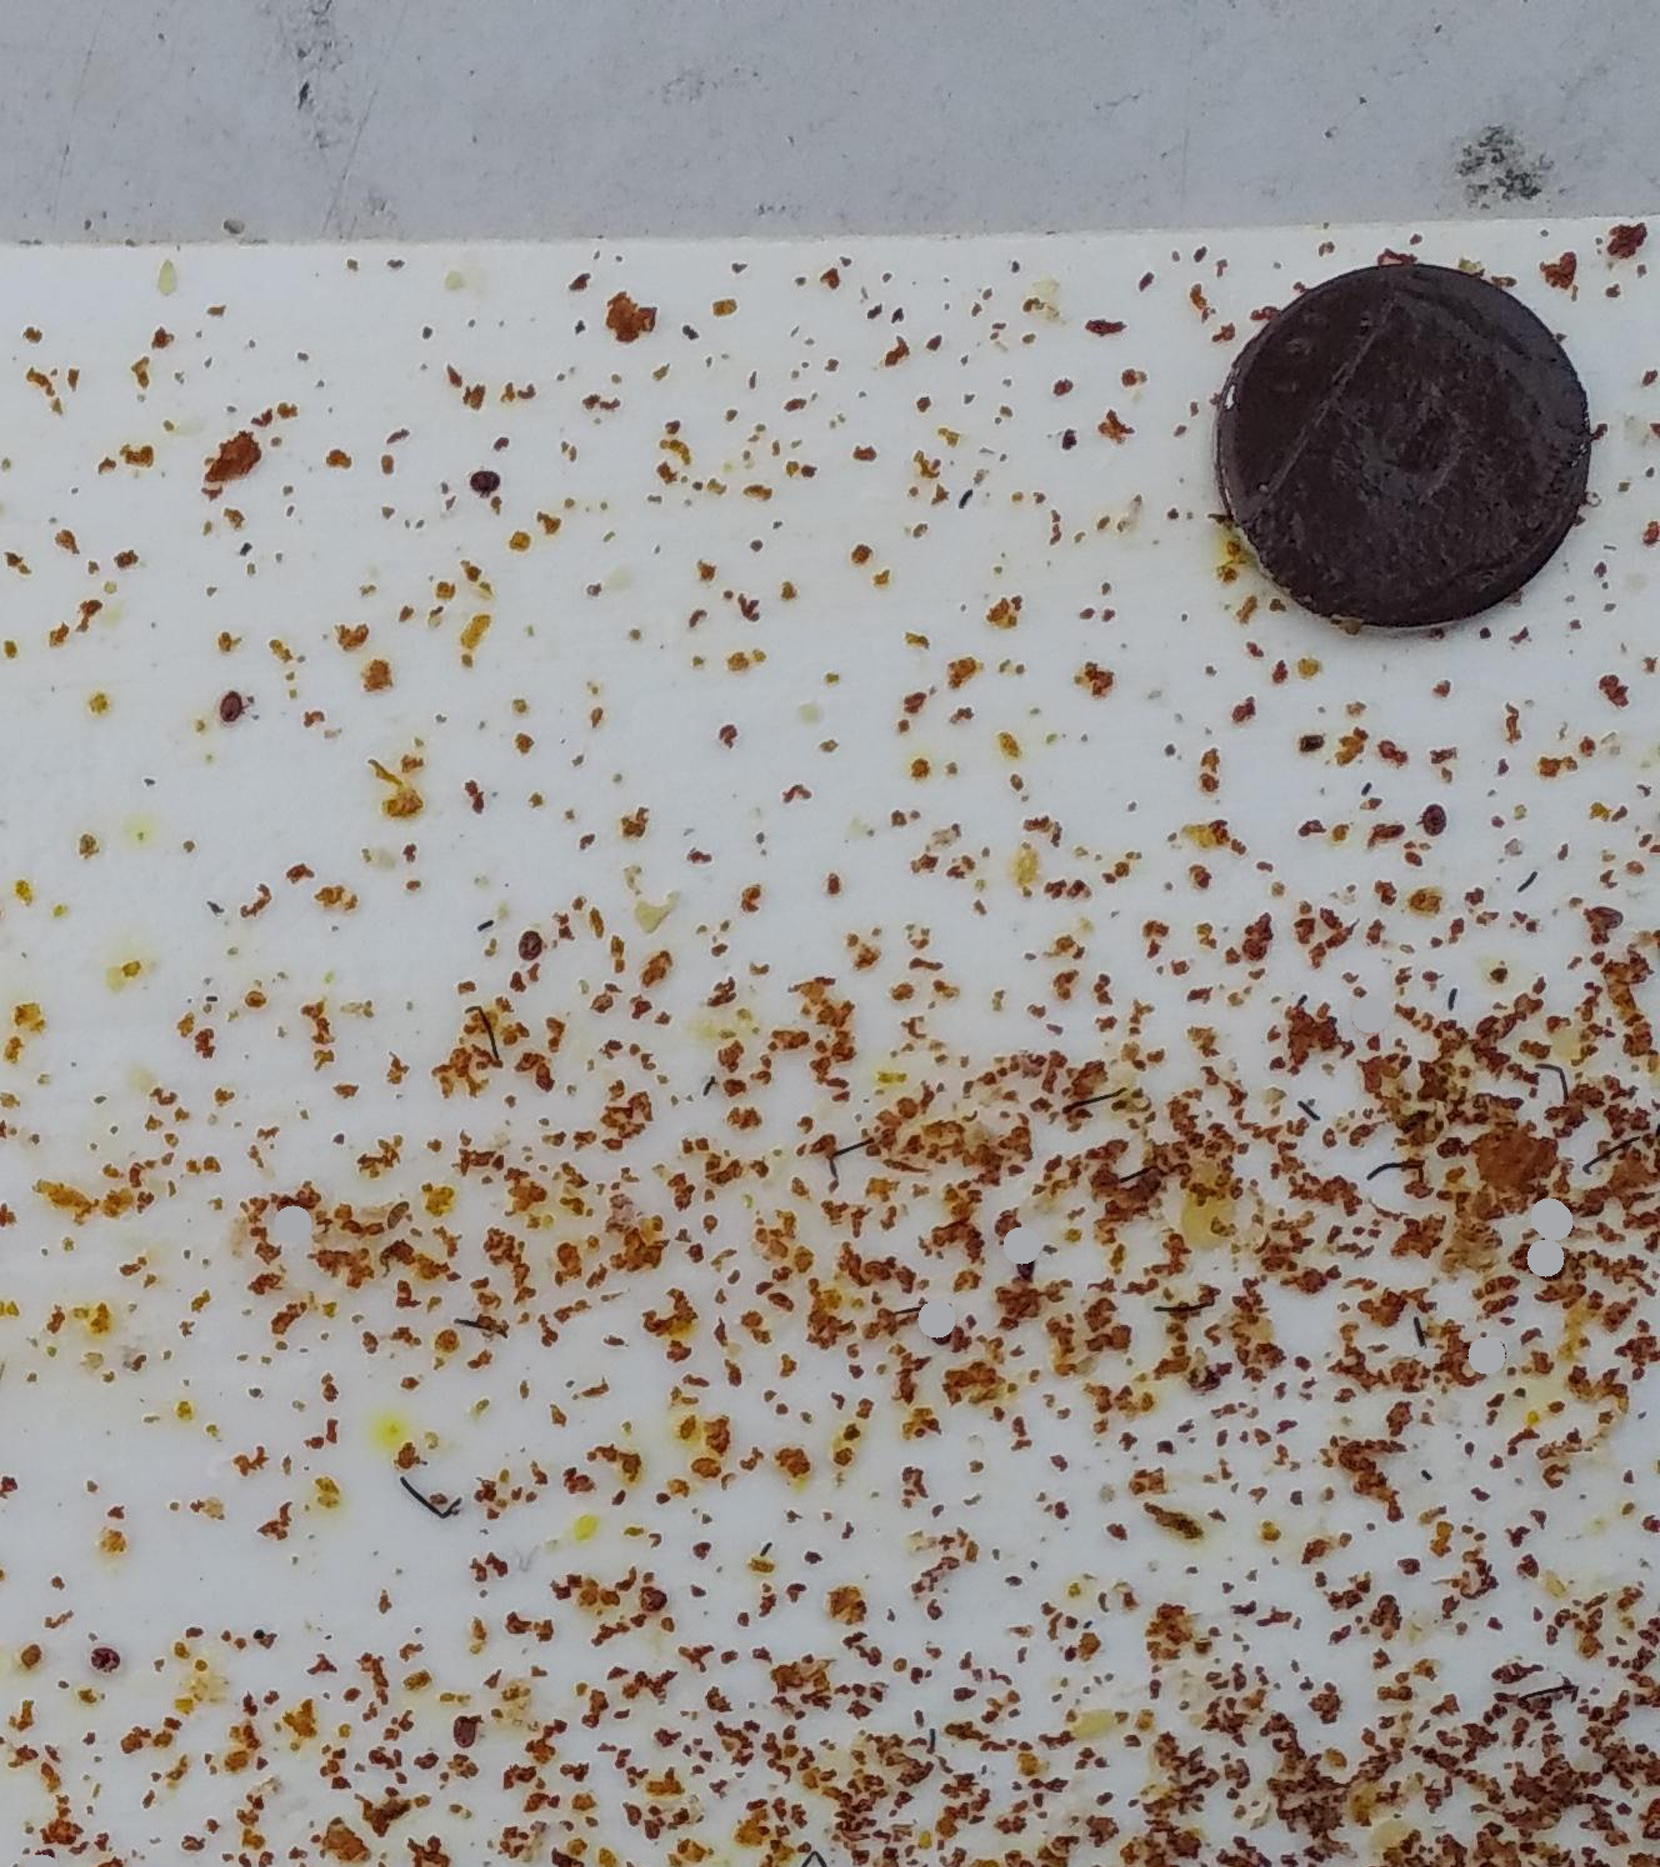Varroa: (1591, 899, 1620, 929), (272, 1194, 300, 1221), (447, 1716, 473, 1745), (513, 938, 540, 963), (473, 470, 498, 497), (221, 688, 244, 716), (1423, 809, 1447, 833), (96, 1639, 114, 1667), (1019, 1255, 1038, 1279), (937, 1319, 957, 1341), (1546, 1256, 1565, 1279), (651, 1590, 668, 1614)
